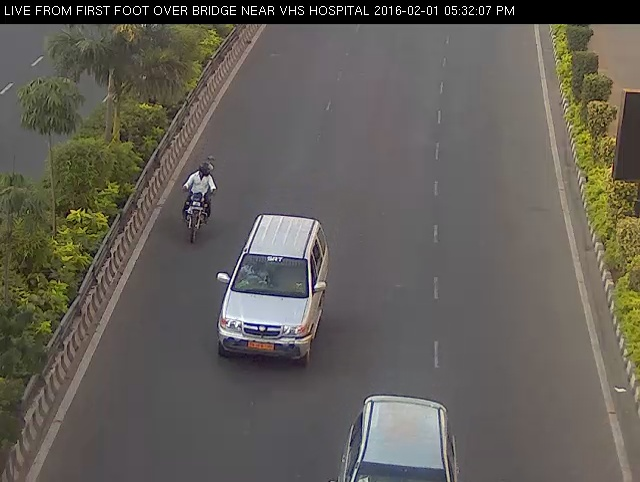Car: (207, 195, 339, 377), (327, 376, 470, 482)
Person: (171, 160, 221, 253)
